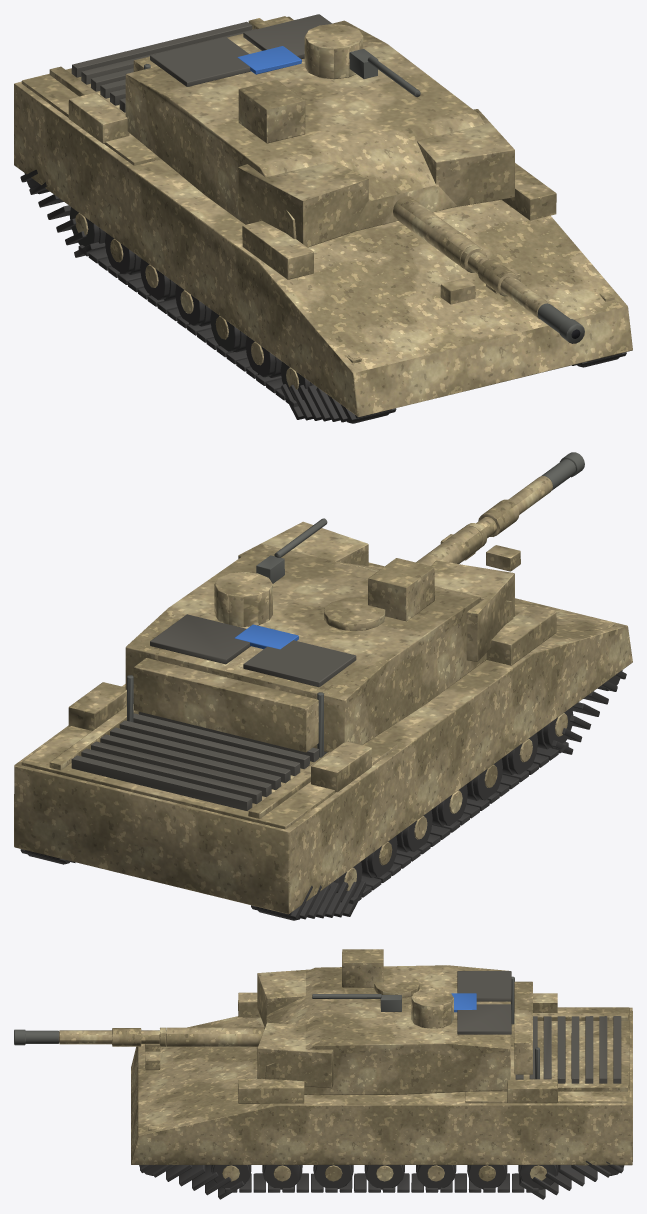
The model's file is mbt_e4_us_m1_abrams_LOD1.glb.
The picture shows the model from 3 angles, top to bottom: view 1: azimuth 30°, elevation 25°; view 2: azimuth 150°, elevation 25°; view 3: azimuth 270°, elevation 25°; orthographic projection. The views are drawn at different scales.
Visible parts, largest first — view 1: mbt_e4_us_m1_abrams_LOD1_body, mbt_e4_us_m1_abrams_LOD1_track, mbt_e4_us_m1_abrams_LOD1_deck, mbt_e4_us_m1_abrams_LOD1_gun, mbt_e4_us_m1_abrams_LOD1_team; view 2: mbt_e4_us_m1_abrams_LOD1_body, mbt_e4_us_m1_abrams_LOD1_deck, mbt_e4_us_m1_abrams_LOD1_track, mbt_e4_us_m1_abrams_LOD1_gun, mbt_e4_us_m1_abrams_LOD1_team; view 3: mbt_e4_us_m1_abrams_LOD1_body, mbt_e4_us_m1_abrams_LOD1_track, mbt_e4_us_m1_abrams_LOD1_deck, mbt_e4_us_m1_abrams_LOD1_gun, mbt_e4_us_m1_abrams_LOD1_team.
Boxes of the visible parts, bbox=[...] form: mbt_e4_us_m1_abrams_LOD1_body: bbox=[14, 16, 632, 417]; mbt_e4_us_m1_abrams_LOD1_track: bbox=[20, 169, 626, 423]; mbt_e4_us_m1_abrams_LOD1_deck: bbox=[71, 14, 332, 112]; mbt_e4_us_m1_abrams_LOD1_gun: bbox=[144, 49, 584, 343]; mbt_e4_us_m1_abrams_LOD1_team: bbox=[237, 46, 301, 74]; mbt_e4_us_m1_abrams_LOD1_body: bbox=[14, 476, 632, 914]; mbt_e4_us_m1_abrams_LOD1_deck: bbox=[71, 614, 356, 810]; mbt_e4_us_m1_abrams_LOD1_track: bbox=[20, 670, 626, 920]; mbt_e4_us_m1_abrams_LOD1_gun: bbox=[127, 452, 584, 757]; mbt_e4_us_m1_abrams_LOD1_team: bbox=[234, 624, 298, 649]; mbt_e4_us_m1_abrams_LOD1_body: bbox=[59, 949, 632, 1181]; mbt_e4_us_m1_abrams_LOD1_track: bbox=[139, 1160, 624, 1199]; mbt_e4_us_m1_abrams_LOD1_deck: bbox=[457, 971, 621, 1083]; mbt_e4_us_m1_abrams_LOD1_gun: bbox=[14, 976, 539, 1079]; mbt_e4_us_m1_abrams_LOD1_team: bbox=[451, 993, 476, 1012].
Bounding box in the file's own units: 3.66 × 3.02 × 9.77.
Materials: 6 (1 with a texture image).
